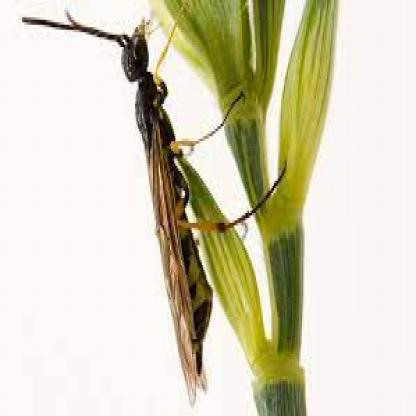sawfly: (22, 10, 286, 401)
